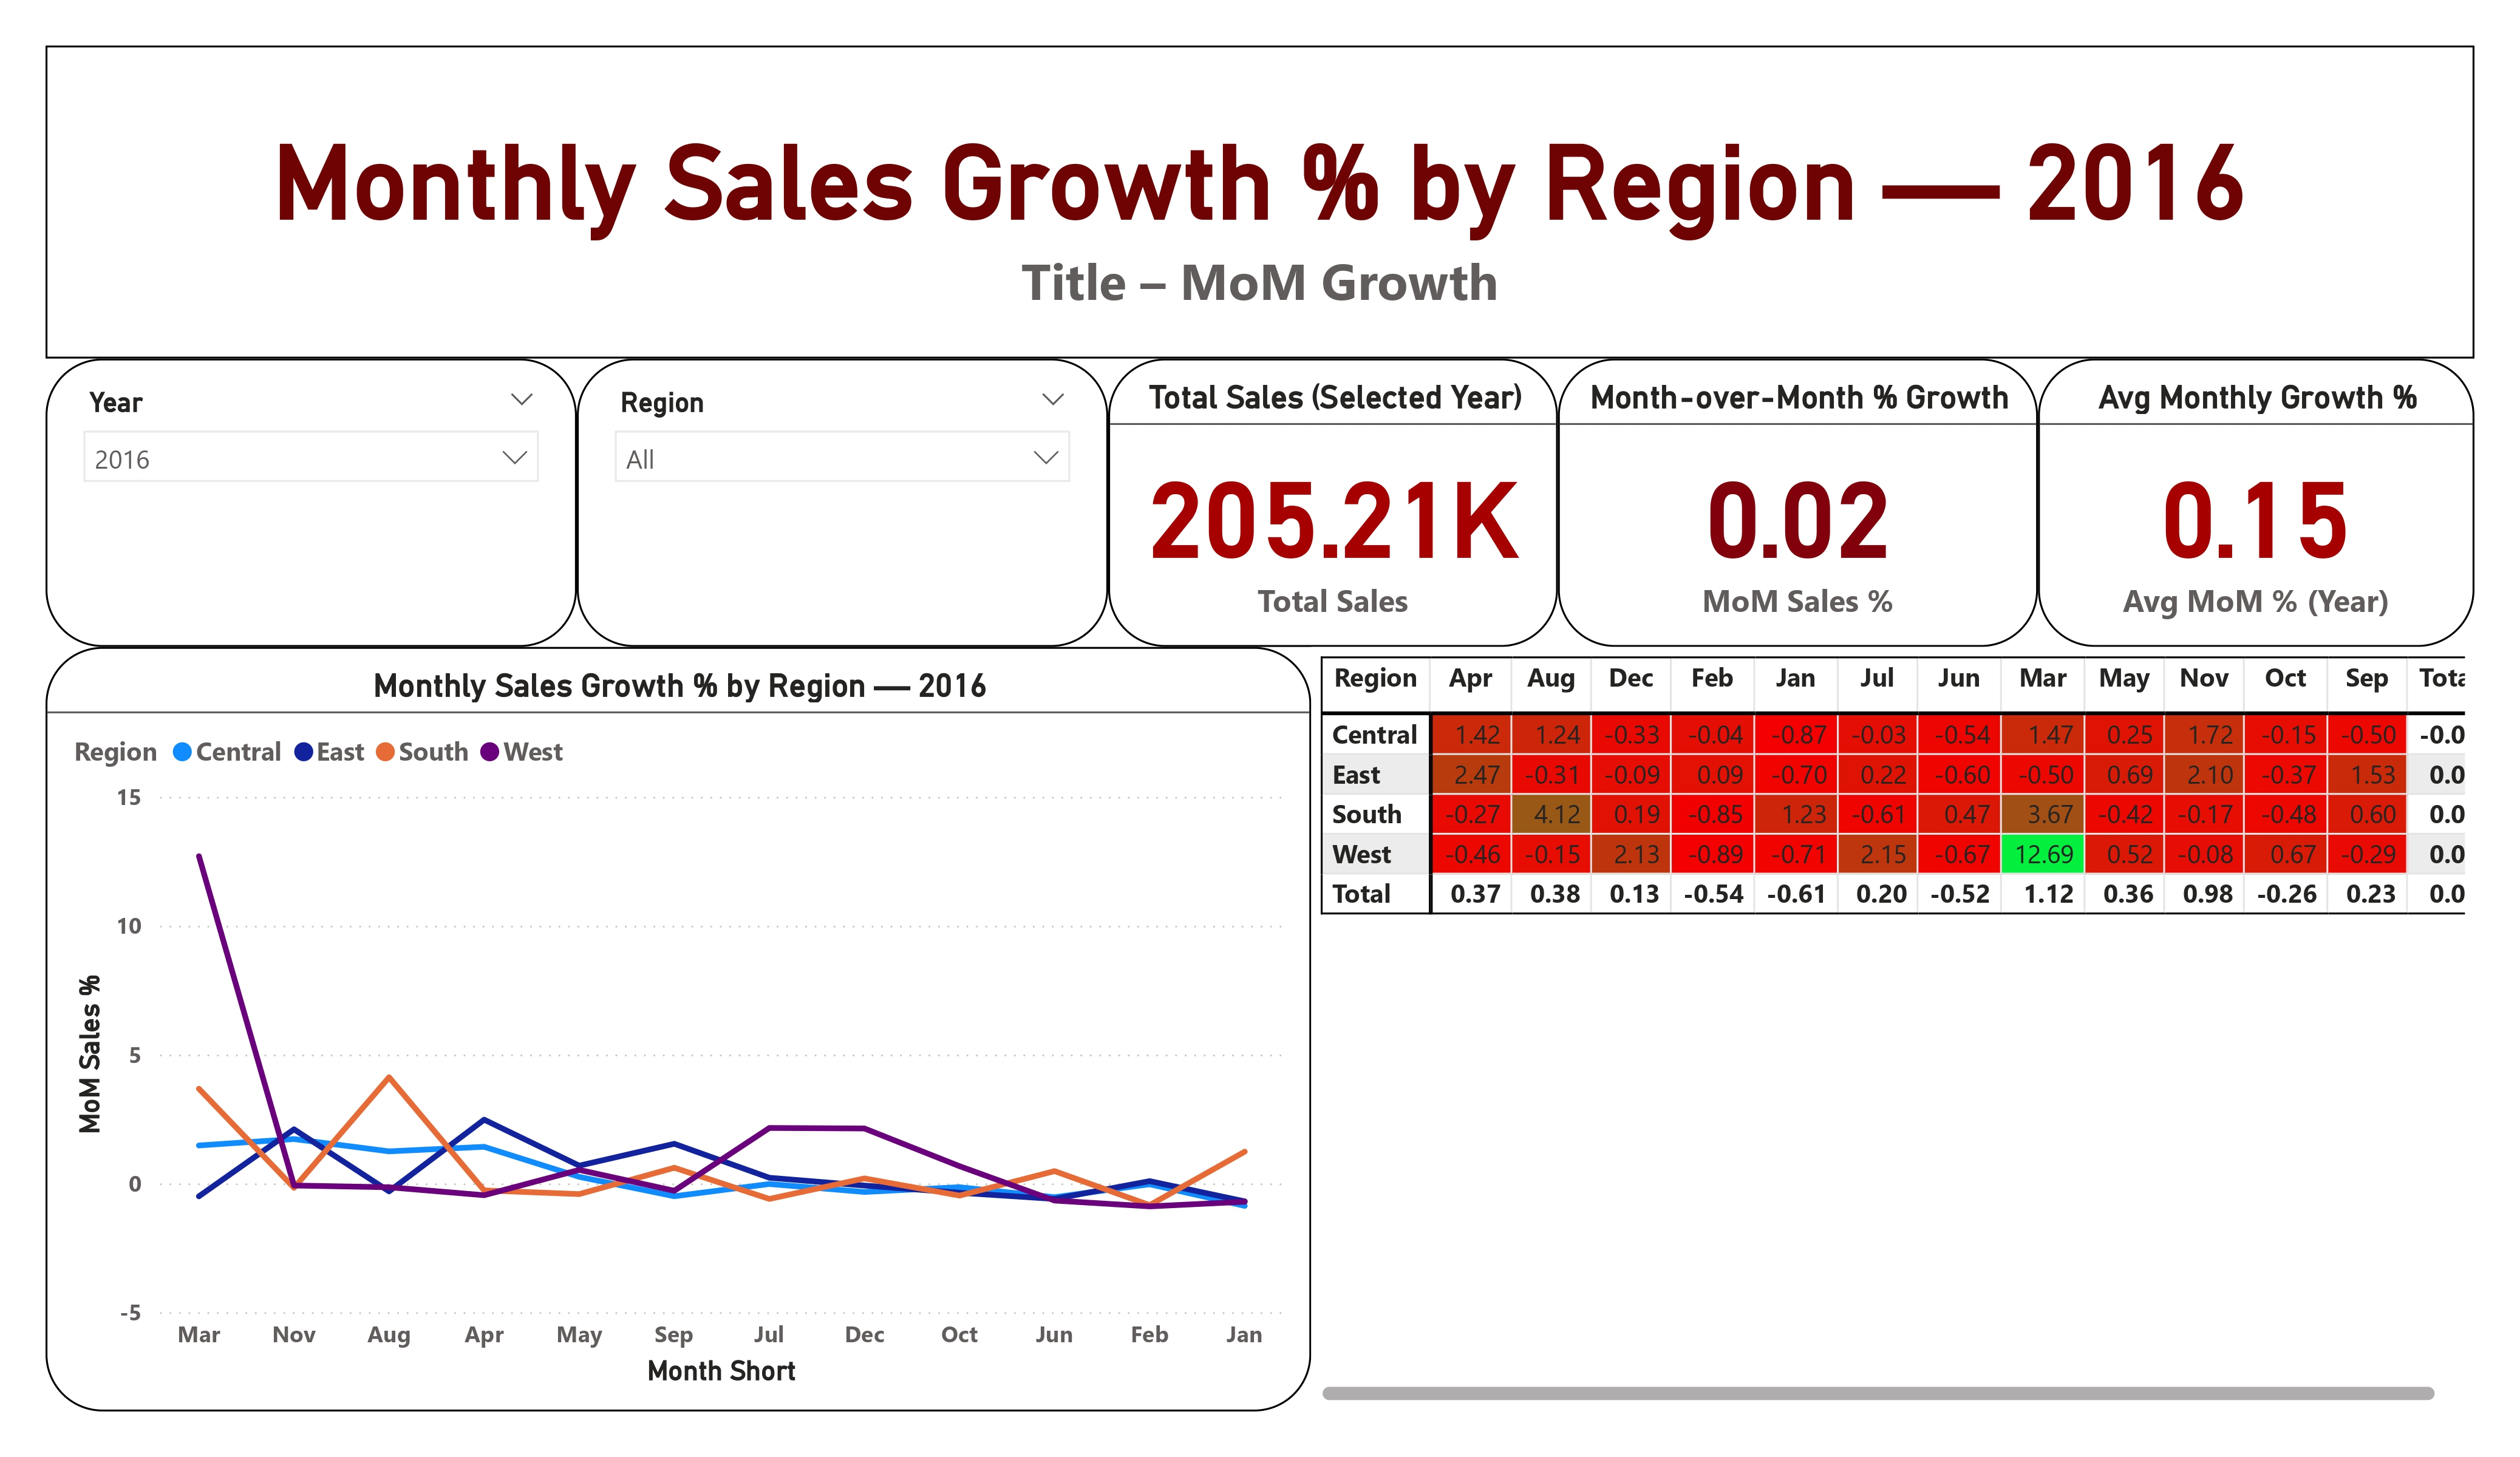

Layout of this report page (visuals, bound fields, positions):
{"tool":"powerbi","page":{"name":"Monthly Sales Growth % by Region (Selected Year)","canvas":[1280,720],"ordinal":7},"visuals":[{"type":"slicer","fields":{"Values":["Date.Year"]},"box":[0,165,280,151.7],"z":0},{"type":"slicer","fields":{"Values":["Append1.Region"]},"box":[280,165,280,151.7],"z":1000},{"type":"card","title":"Total Sales (Selected Year)","fields":{"Values":["Append1.Total Sales"]},"box":[560,165,236.7,151.7],"z":2000},{"type":"card","title":"Month-over-Month % Growth","fields":{"Values":["Append1.MoM Sales %"]},"box":[796.7,165,253.3,151.7],"z":3000},{"type":"card","title":"Avg Monthly Growth %","fields":{"Values":["Append1.Avg MoM % (Year)"]},"box":[1050,165,230,151.7],"z":4000},{"type":"lineChart","fields":{"Category":["Date.Month Short"],"Y":["Append1.MoM Sales %"],"Series":["Append1.Region"]},"box":[0,316.7,666.7,403.3],"z":5000},{"type":"pivotTable","fields":{"Rows":["Append1.Region"],"Columns":["Date.Month Short"],"Values":["Append1.MoM Sales %"]},"box":[666.7,316.7,613.3,403.3],"z":6000},{"type":"card","fields":{"Values":["Append1.Title – MoM Growth"]},"box":[0,0,1280,165],"z":7000}]}

Visuals, with their boxes on the page's 1280x720 design canvas (x1, y1, x2, y2). These are canvas units, not pixel positions in the 2520x1457 screenshot, which may show the page scaled, cropped or inside an application window:
slicer - Date.Year: locate(0, 165, 280, 317)
slicer - Append1.Region: locate(280, 165, 560, 317)
"Total Sales (Selected Year)" card: locate(560, 165, 797, 317)
"Month-over-Month % Growth" card: locate(797, 165, 1050, 317)
"Avg Monthly Growth %" card: locate(1050, 165, 1280, 317)
lineChart - Date.Month Short x Append1.MoM Sales %: locate(0, 317, 667, 720)
pivotTable - Append1.Region x Date.Month Short: locate(667, 317, 1280, 720)
card - Append1.Title – MoM Growth: locate(0, 0, 1280, 165)
